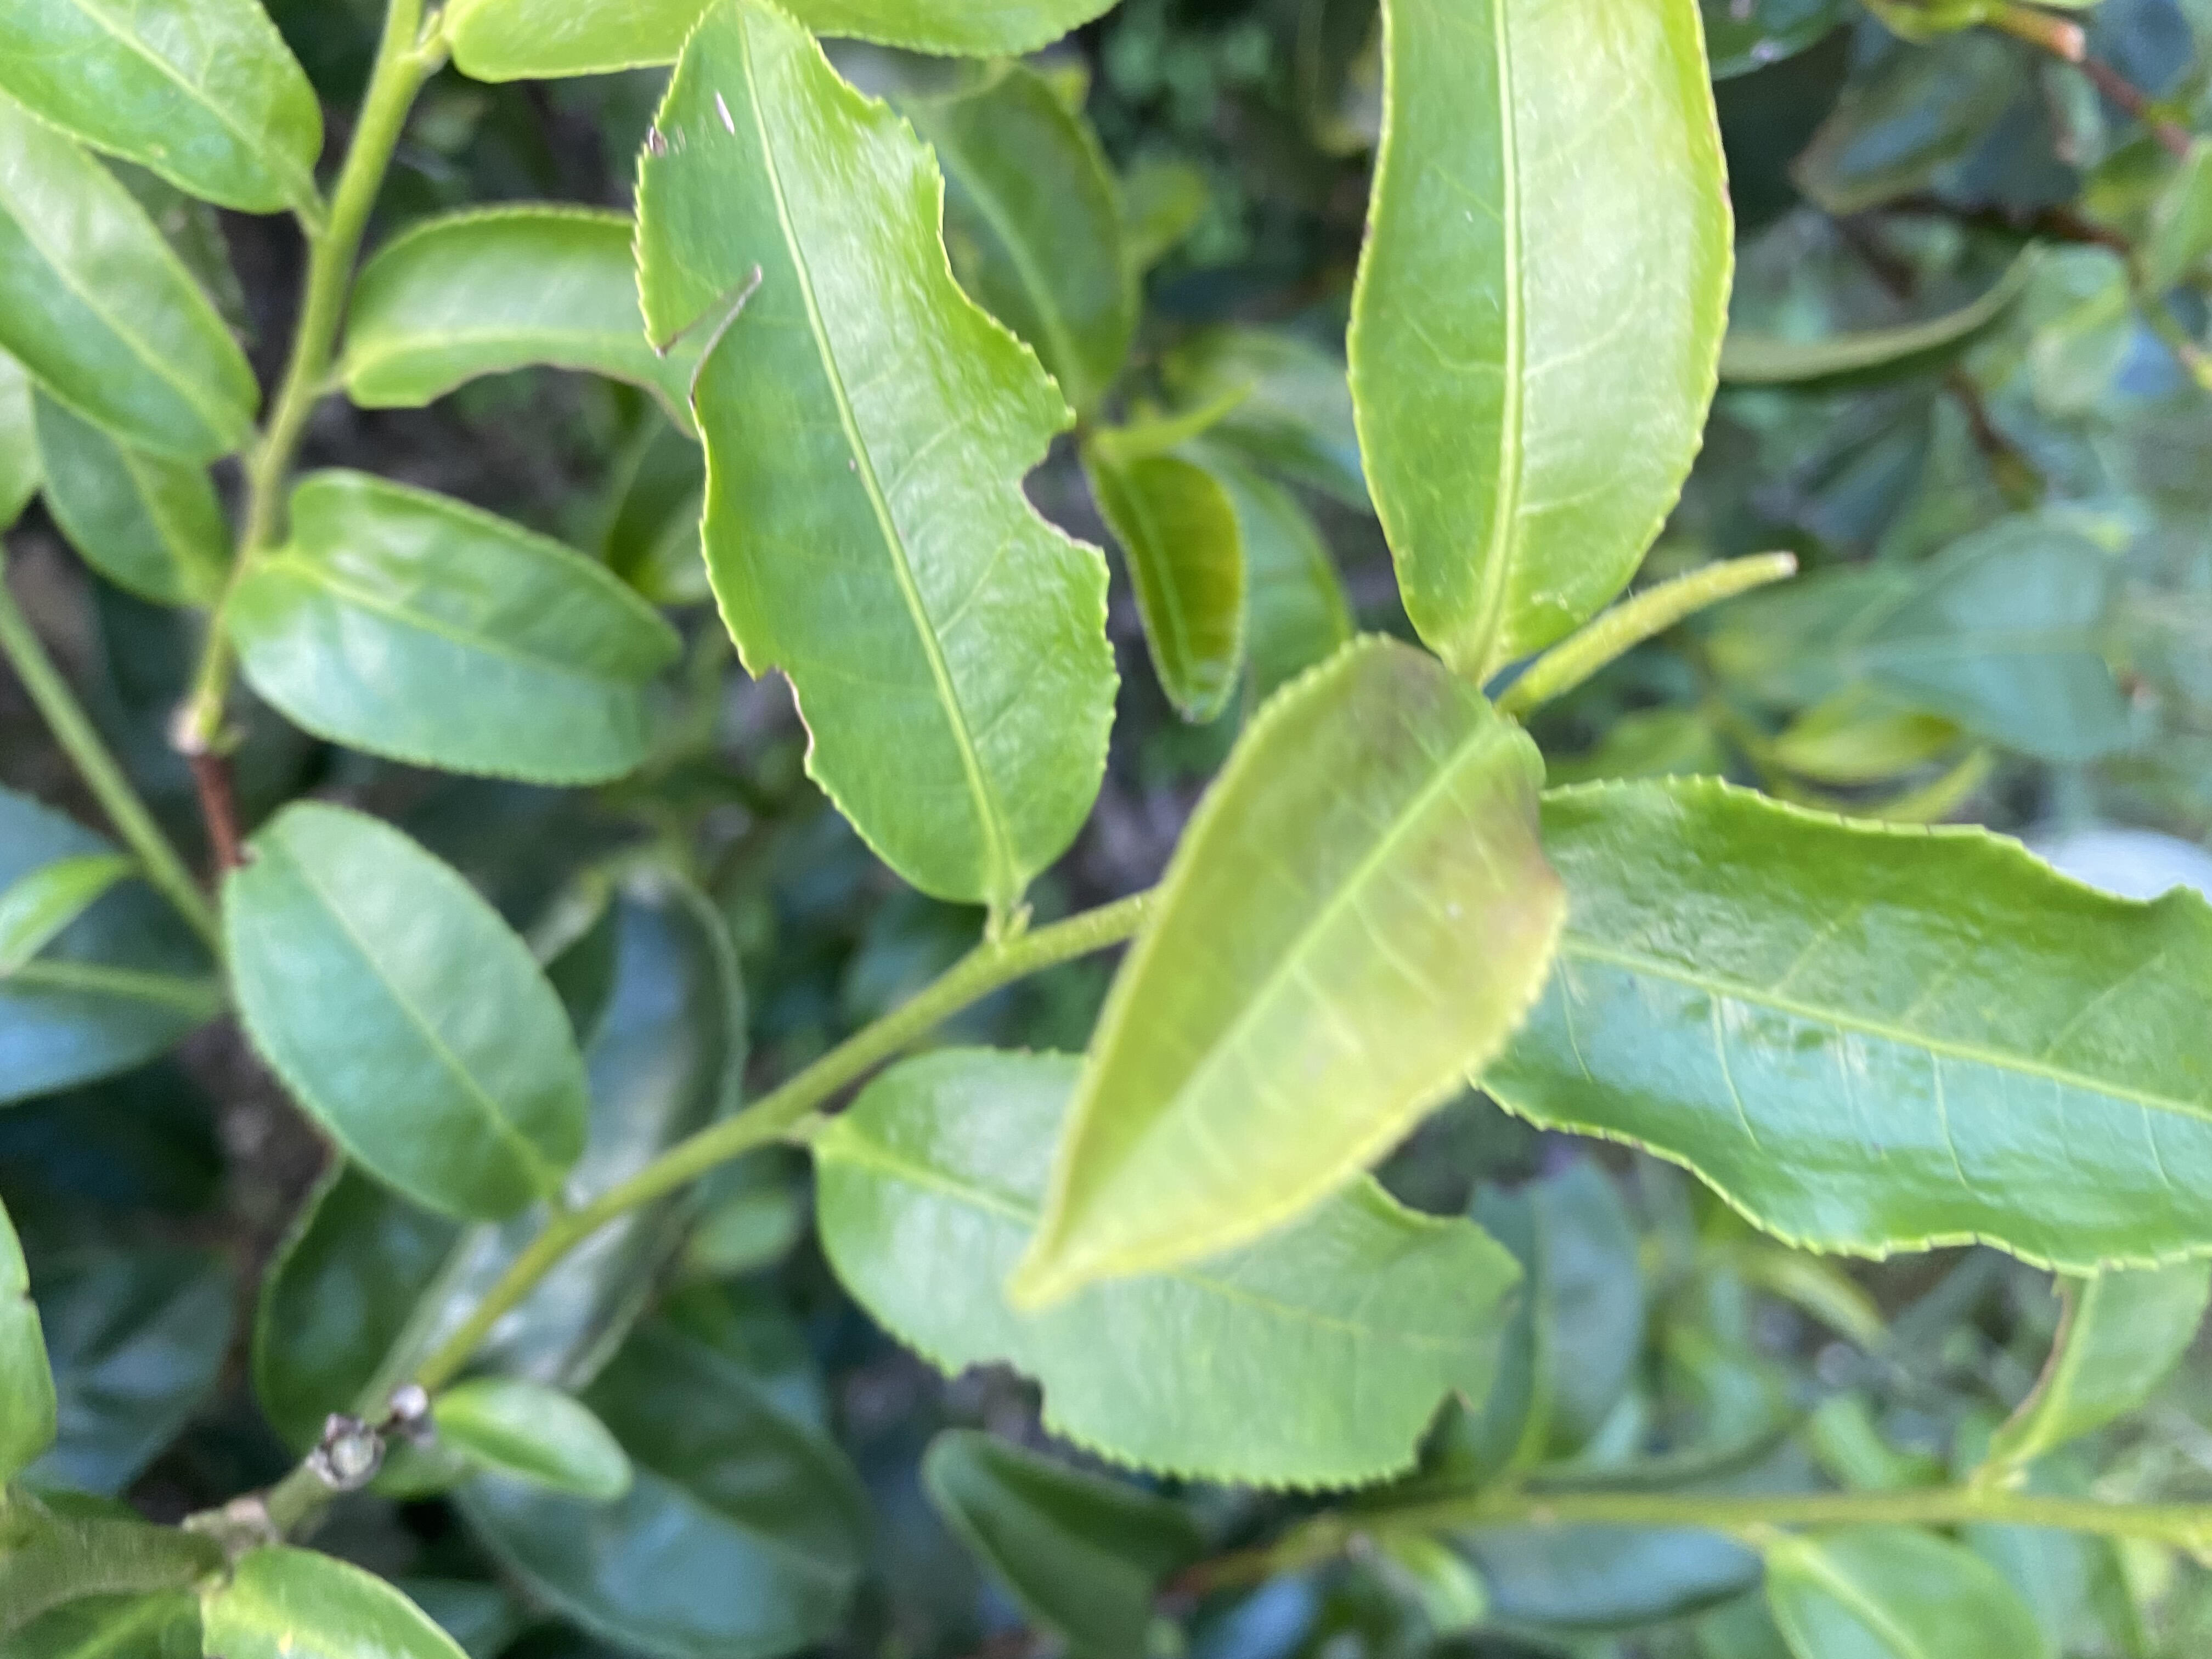chihuo_high: (631, 3, 1125, 910), (815, 1040, 1527, 1502), (343, 200, 702, 436)
chihuo_low: (211, 800, 599, 1220)
tanju_low: (1007, 627, 1573, 1314)
